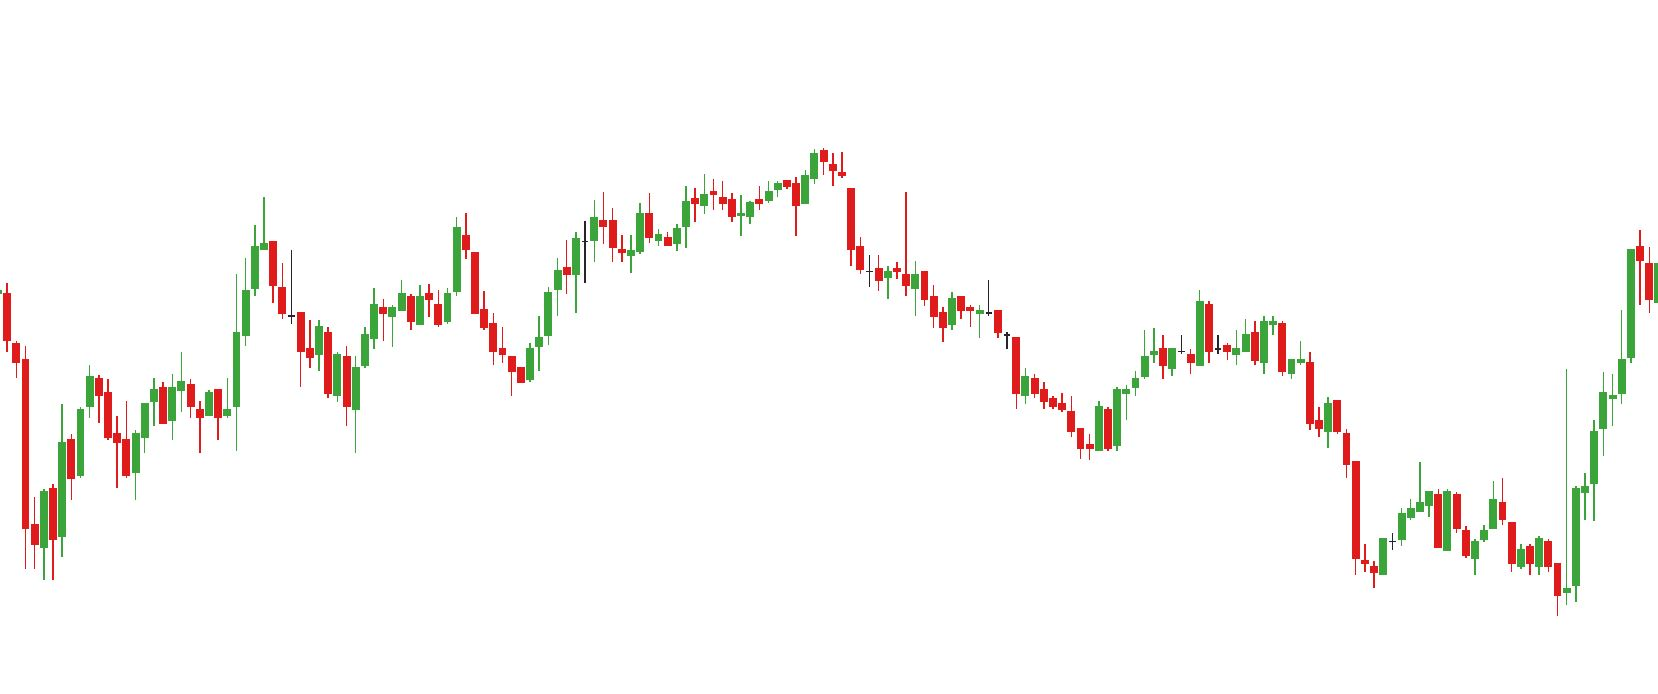buy: (377, 280, 544, 395)
